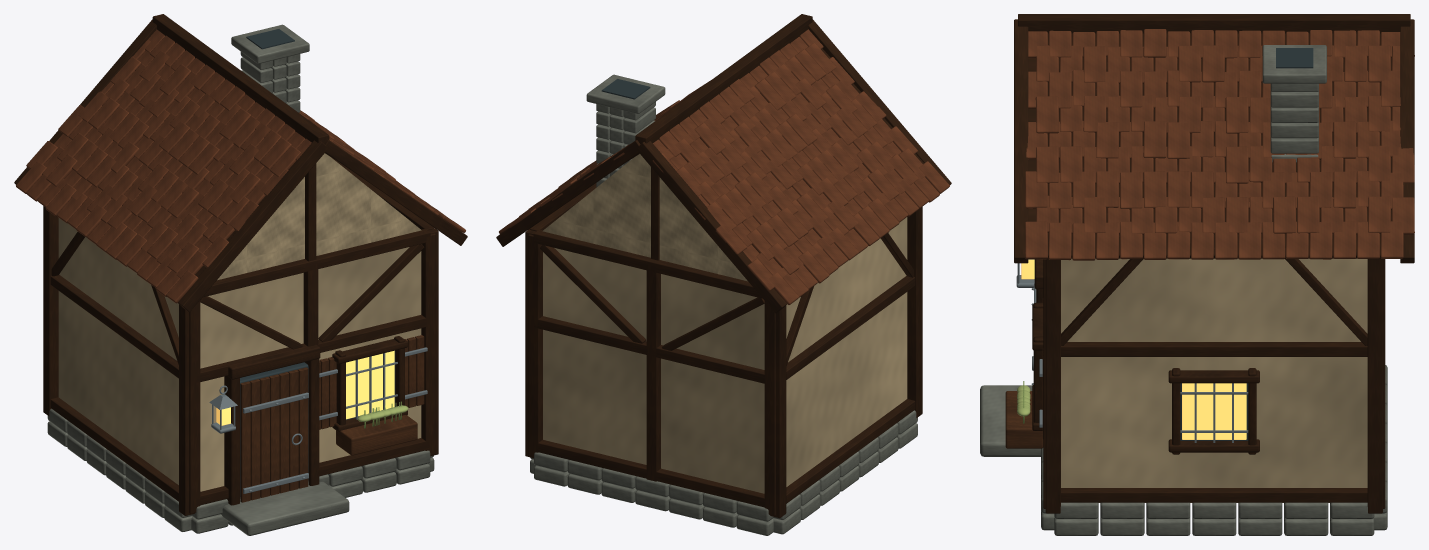
Rendered from townhouse.glb.
The picture shows the model from 3 angles, left to right: view 1: azimuth 30°, elevation 25°; view 2: azimuth 150°, elevation 25°; view 3: azimuth 270°, elevation 25°; orthographic projection. The views are drawn at different scales.
Visible parts, largest first — view 1: townhouse_dark_oak, townhouse_plaster, townhouse_red_slate, townhouse_stone, townhouse_oak, townhouse_iron, townhouse_glass, townhouse_ink; view 2: townhouse_plaster, townhouse_dark_oak, townhouse_red_slate, townhouse_stone, townhouse_ink; view 3: townhouse_red_slate, townhouse_plaster, townhouse_dark_oak, townhouse_stone, townhouse_glass, townhouse_oak, townhouse_iron, townhouse_ink.
Boxes of the visible parts, x1,y1,x2,y2 form: townhouse_dark_oak: (14,14,467,515); townhouse_plaster: (58,153,421,491); townhouse_red_slate: (16,29,465,303); townhouse_stone: (47,24,434,535); townhouse_oak: (240,335,424,502); townhouse_iron: (209,347,427,493); townhouse_glass: (216,350,394,425); townhouse_ink: (240,29,395,496); townhouse_plaster: (542,154,907,493); townhouse_dark_oak: (496,14,951,518); townhouse_red_slate: (499,29,949,304); townhouse_stone: (530,74,917,535); townhouse_ink: (601,79,650,99); townhouse_red_slate: (1025,29,1414,260); townhouse_plaster: (1061,258,1367,502); townhouse_dark_oak: (1014,14,1414,513); townhouse_stone: (980,45,1387,535); townhouse_glass: (1021,259,1246,439); townhouse_oak: (1005,298,1043,448); townhouse_iron: (1016,259,1248,442); townhouse_ink: (1180,48,1313,440).
Size of the model in its own units: 4.72 by 5.83 by 5.13.
Materials: 10 (5 with a texture image).
